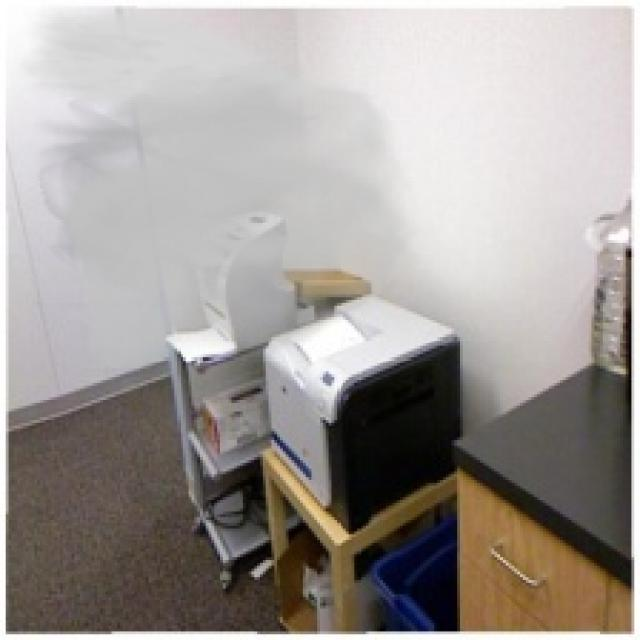Smoke: (11, 2, 426, 372)
